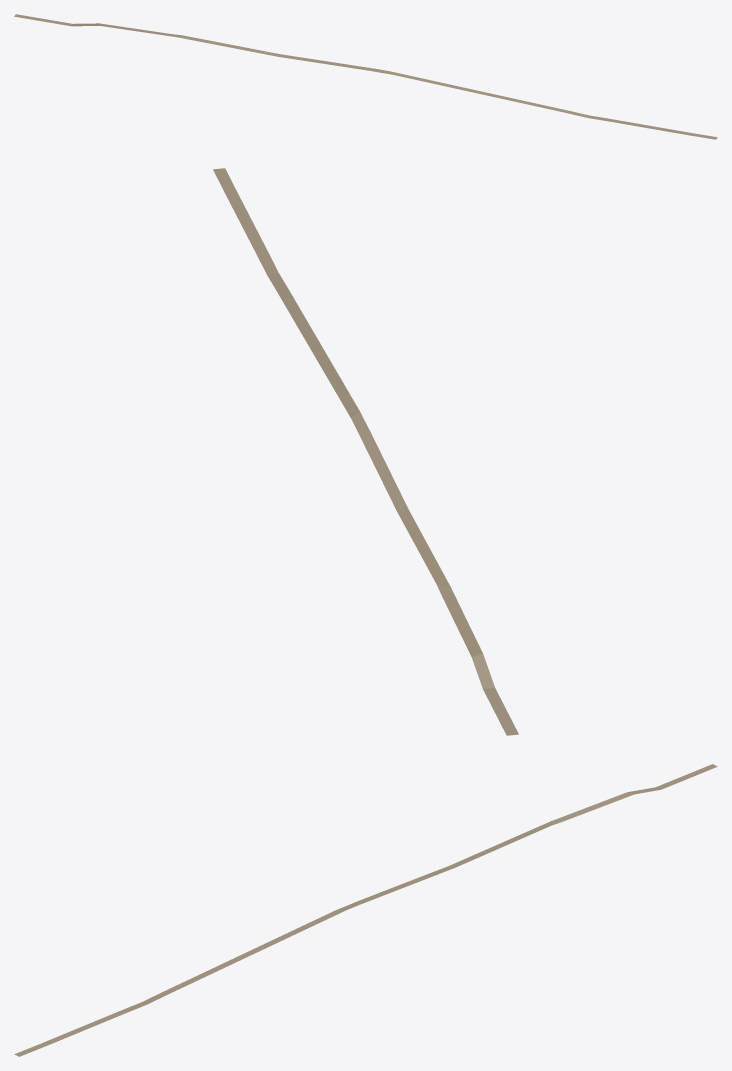
Rendered from farm_28_15_track.glb.
3 views of the same model, one above another, from view 1: azimuth 30°, elevation 25°; view 2: azimuth 150°, elevation 25°; view 3: azimuth 270°, elevation 25° (orthographic). The views are drawn at different scales.
Visible parts, largest first — view 1: geometry_0; view 2: geometry_0; view 3: geometry_0.
Boxes of the visible parts, bbox=[...] form: geometry_0: bbox=[14, 14, 717, 139]; geometry_0: bbox=[213, 168, 518, 735]; geometry_0: bbox=[14, 764, 717, 1056].
Bounding box in the file's own units: 257 × 15.23 × 291.
